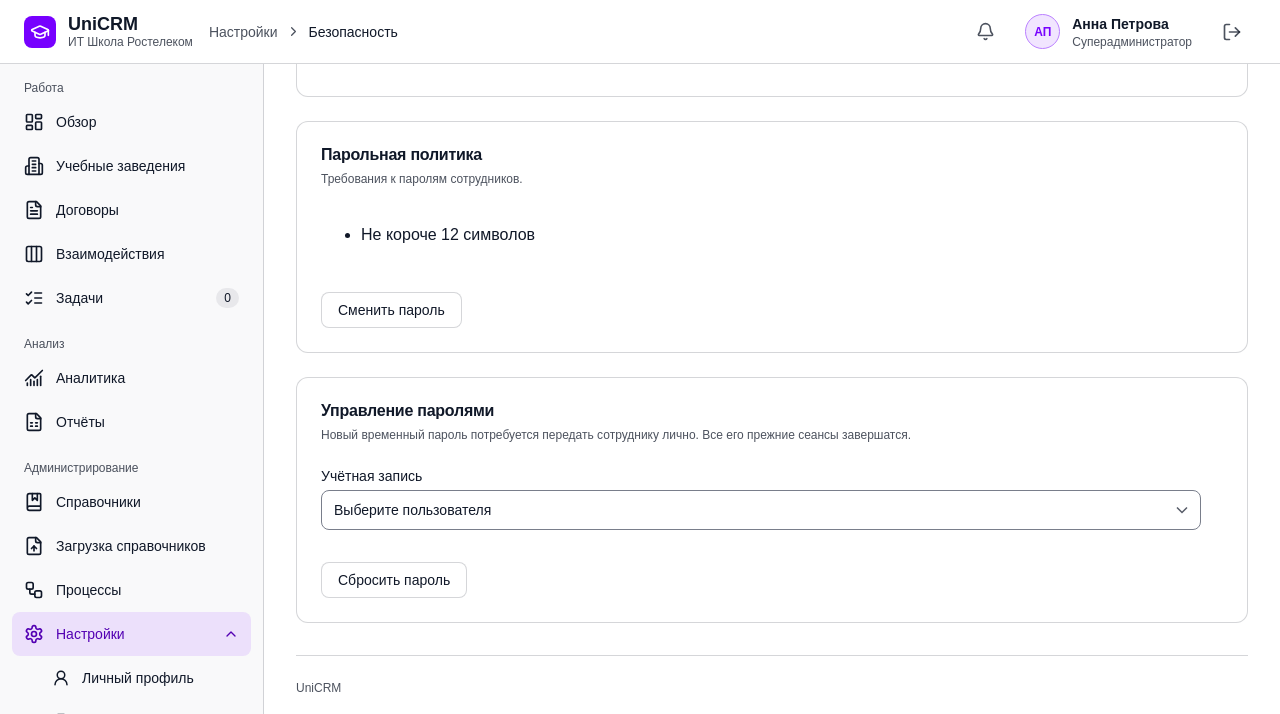
Test case: settings security page › can reset the password of a registered user awaiting a role
The width and height of the screenshot is (1280, 714).
(page scrolled)
Select "new_person — ожидает назначения роли" in the dropdown labelled "Учётная запись". click: (761, 510)
box: [321,490,1201,530]
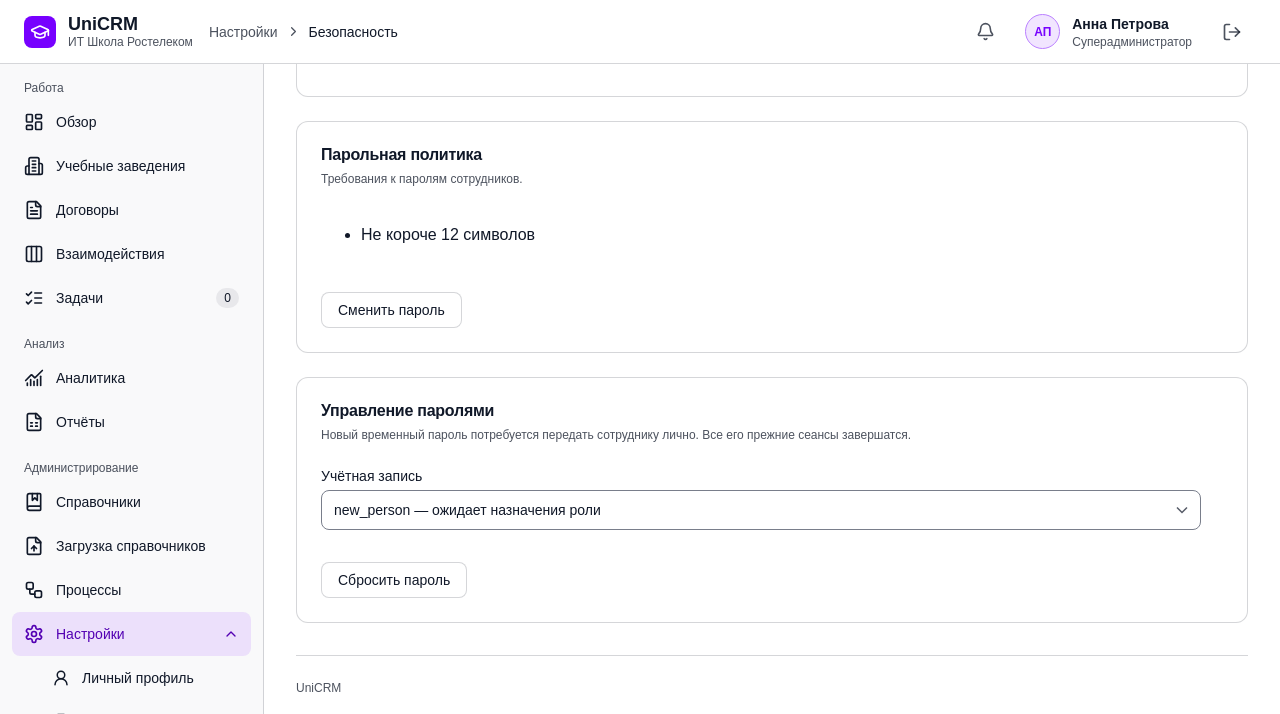
Click the button "Сбросить пароль". click: (394, 580)
box: [321,562,467,598]
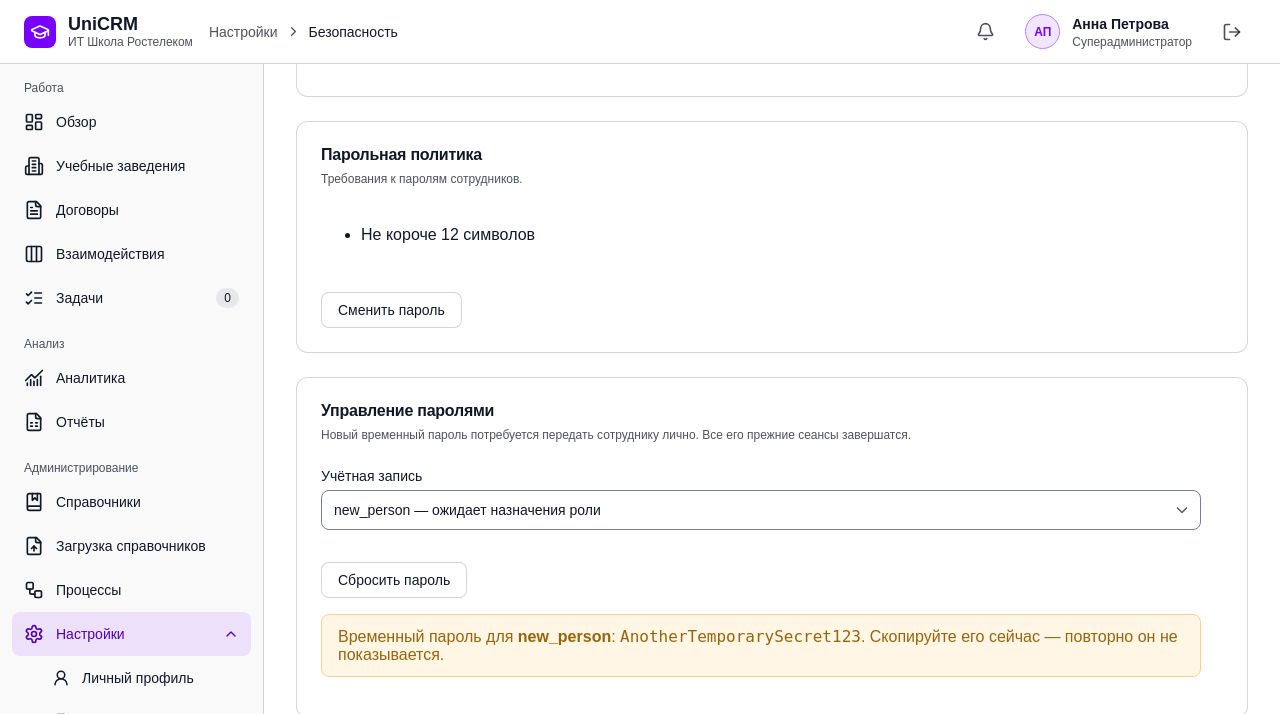
expect the text "AnotherTemporarySecret123" is shown: met, box [620,627,861,646]
